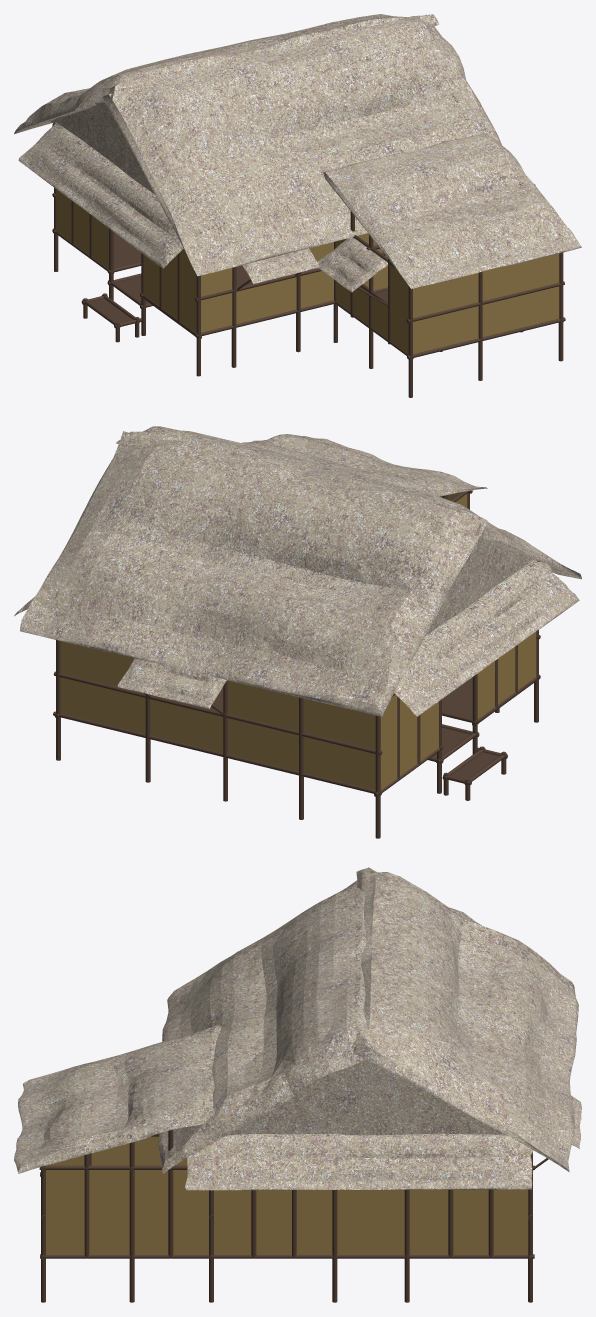
The model's file is kubo.glb.
3 renders of one model, top to bottom at view 1: azimuth 30°, elevation 25°; view 2: azimuth 150°, elevation 25°; view 3: azimuth 270°, elevation 25°, orthographic. The views are drawn at different scales.
Parts seen in each view (by area): view 1: kub 3; view 2: kub 3; view 3: kub 3.
Part boxes in pixels (bbox=[...]): kub 3: bbox=[14, 14, 581, 397]; kub 3: bbox=[14, 426, 581, 838]; kub 3: bbox=[14, 867, 581, 1302].
Bounding box in the file's own units: 31.76 × 20.48 × 38.16.
5 materials, 5 textured.
